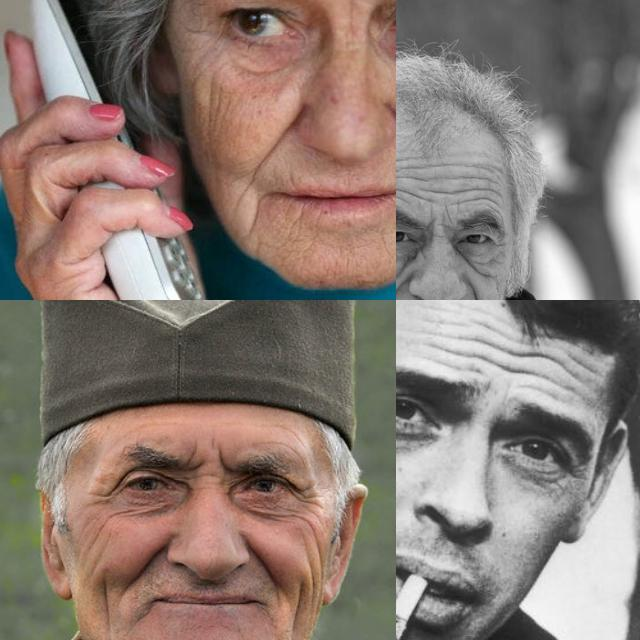bunny_line: (464, 260, 498, 280)
chin: (284, 204, 304, 242), (375, 229, 393, 259)
crows_feet: (291, 480, 325, 512), (89, 478, 119, 514), (486, 234, 512, 254)
forehead: (472, 164, 508, 210), (422, 166, 464, 204), (560, 344, 598, 386), (430, 337, 474, 373), (480, 334, 514, 372), (518, 341, 556, 374), (526, 377, 564, 409), (471, 310, 503, 338), (268, 436, 306, 458), (396, 157, 408, 202)
frown_line: (178, 442, 210, 472), (426, 215, 456, 241), (215, 442, 235, 476), (344, 0, 357, 43)
gummy_smile: (252, 90, 298, 178), (243, 537, 277, 581), (130, 543, 168, 575), (464, 282, 489, 300), (396, 272, 408, 300)
masseter: (76, 522, 120, 556), (208, 74, 230, 138), (284, 579, 308, 631), (302, 522, 332, 562), (96, 579, 118, 621)
sad_smile: (242, 194, 270, 242)
